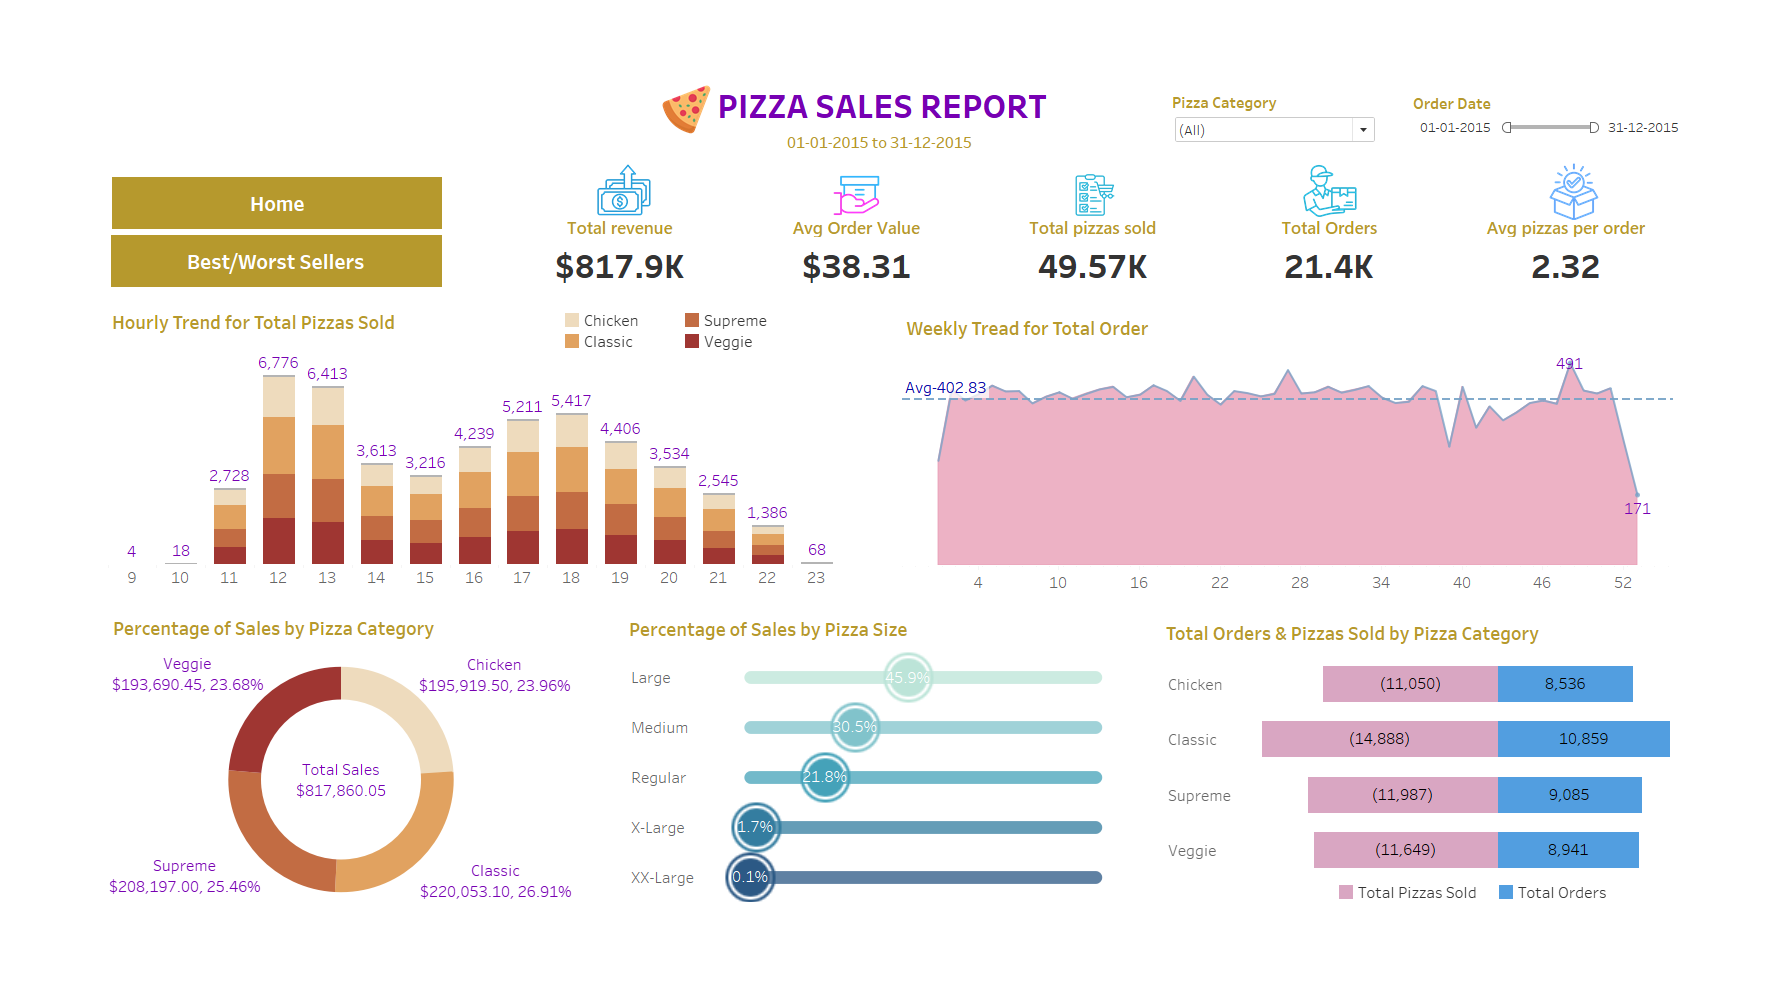

What the dashboard file says about the page in this screenshot:
{"tool":"tableau","page":{"name":"Dashboard 1","canvas":[1600,900],"ordinal":1},"visuals":[{"type":"text","box":[621,8,346,52]},{"type":"image","param":"C:/Users/91969/Downloads/pizza-slice-tableau.png","box":[568,13,52,50]},{"type":"filter","title":"Hourly Trend for Total Pizzas Sold","param":"[federated.1qetb7y0gb5qkl1flxrbk0yb08a5].[none:pizza_category:nk]","box":[1079,21,206,65]},{"type":"filter","title":"Hourly Trend for Total Pizzas Sold","param":"[federated.1qetb7y0gb5qkl1flxrbk0yb08a5].[none:order_date:qk]","box":[1320,22,275,65]},{"type":"worksheet","title":"Date Range","mark":"Automatic","box":[616,52,341,40]},{"type":"image","param":"C:/Users/91969/Downloads/profit-growth-tableau.png","box":[500,88,77,61]},{"type":"image","param":"C:/Users/91969/Downloads/delivery-man-tableau.png","box":[1209,92,62,55]},{"type":"image","param":"C:/Users/91969/Downloads/order-tableau.png","box":[1452,92,65,57]},{"type":"image","param":"C:/Users/91969/Downloads/shipping-box-tableau.png","box":[737,98,57,52]},{"type":"image","param":"C:/Users/91969/Downloads/order-delivery-tableau.png","box":[980,102,43,44]},{"type":"dashboard-object","box":[19,106,330,52]},{"type":"worksheet","title":"KPI Banner","mark":"Automatic","box":[409,146,1182,77]},{"type":"dashboard-object","box":[18,164,331,52]},{"type":"worksheet","title":"Hourly Trend for Total Pizzas Sold","mark":"Bar","rows":["Calculation_1508424467144732675","Calculation_1508424467144732675"],"cols":["order_time"],"box":[15,234,733,284]},{"type":"legend","title":"Hourly Trend for Total Pizzas Sold","param":"[federated.1qetb7y0gb5qkl1flxrbk0yb08a5].[none:pizza_category:nk]","box":[469,239,276,55]},{"type":"worksheet","title":"Weekly Tread for Total Order","mark":"Area","rows":["Calculation_1508424467144409089","Calculation_1508424467144409089"],"cols":["order_date"],"box":[809,240,771,284]},{"type":"worksheet","title":"Percentage of Sales by Pizza Category","mark":"Pie","rows":["Calculation_1568097095774916609","Calculation_1568097095775059971"],"box":[16,540,464,297]},{"type":"worksheet","title":"Percentage of Sales by Pizza Size","mark":"Line","rows":["pizza_size"],"box":[532,541,495,290]},{"type":"worksheet","title":"Total Orders & Pizzas Sold by Pizza Category","mark":"Automatic","rows":["pizza_category"],"box":[1069,545,528,262]}]}

Visuals, with their boxes in screenshot pixels (x1, y1, x2, y2), scaled from the page's 1600x900 canvas onto the 1790x997 screenshot:
text: left=695, top=9, right=1082, bottom=66
image: left=635, top=14, right=694, bottom=70
"Hourly Trend for Total Pizzas Sold" filter: left=1207, top=23, right=1438, bottom=95
"Hourly Trend for Total Pizzas Sold" filter: left=1477, top=24, right=1784, bottom=96
"Date Range" worksheet: left=689, top=58, right=1071, bottom=102
image: left=559, top=97, right=646, bottom=165
image: left=1353, top=102, right=1422, bottom=163
image: left=1624, top=102, right=1697, bottom=165
image: left=825, top=109, right=888, bottom=166
image: left=1096, top=113, right=1144, bottom=162
dashboard-object: left=21, top=117, right=390, bottom=175
"KPI Banner" worksheet: left=458, top=162, right=1780, bottom=247
dashboard-object: left=20, top=182, right=390, bottom=239
"Hourly Trend for Total Pizzas Sold" worksheet (Bar marks): left=17, top=259, right=837, bottom=574
"Hourly Trend for Total Pizzas Sold" legend: left=525, top=265, right=833, bottom=326
"Weekly Tread for Total Order" worksheet (Area marks): left=905, top=266, right=1768, bottom=580
"Percentage of Sales by Pizza Category" worksheet (Pie marks): left=18, top=598, right=537, bottom=927
"Percentage of Sales by Pizza Size" worksheet (Line marks): left=595, top=599, right=1149, bottom=921
"Total Orders & Pizzas Sold by Pizza Category" worksheet: left=1196, top=604, right=1787, bottom=894
